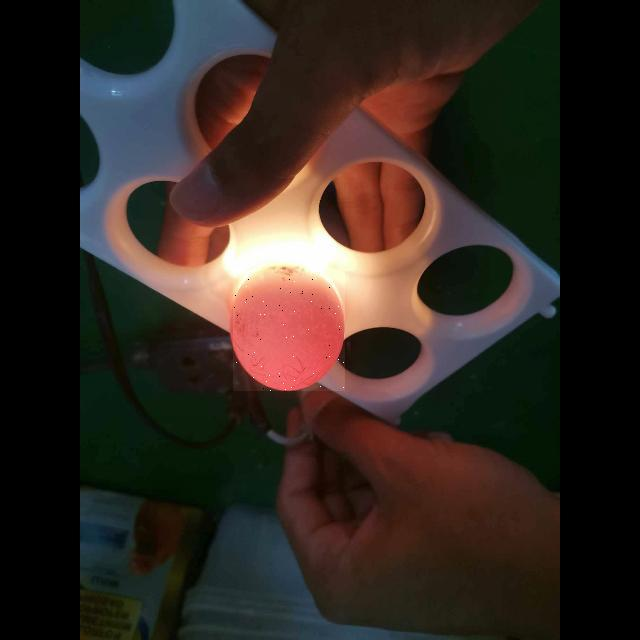Infertile: (233, 269, 345, 391)
